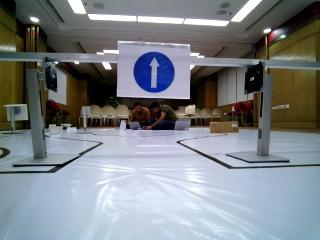straight: (115, 39, 188, 100)
